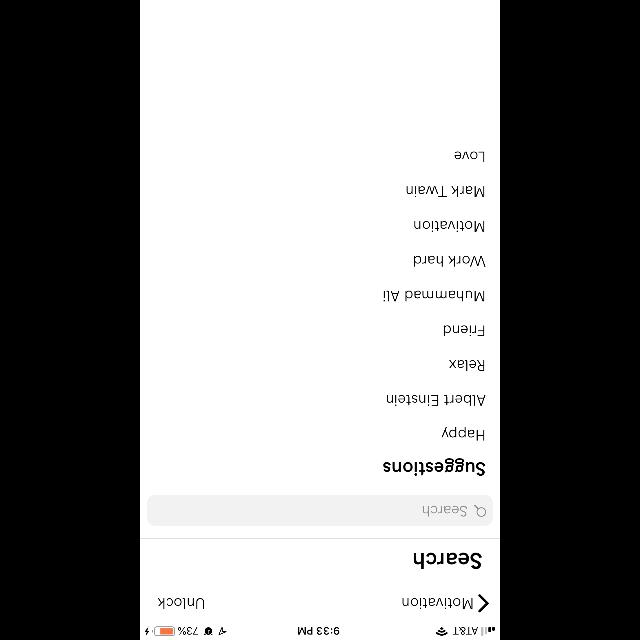icon: (478, 594, 488, 612), (474, 505, 486, 517)
input: (147, 494, 493, 526)
text: (383, 458, 485, 476), (414, 552, 482, 570), (386, 394, 486, 406), (384, 290, 484, 302), (406, 186, 484, 198), (414, 220, 484, 232), (414, 256, 486, 266), (402, 598, 472, 608), (442, 427, 484, 441), (159, 599, 207, 611), (423, 506, 467, 516), (444, 326, 484, 336), (450, 361, 484, 372), (454, 152, 484, 162)
uppertaskbar: (140, 626, 500, 640)
